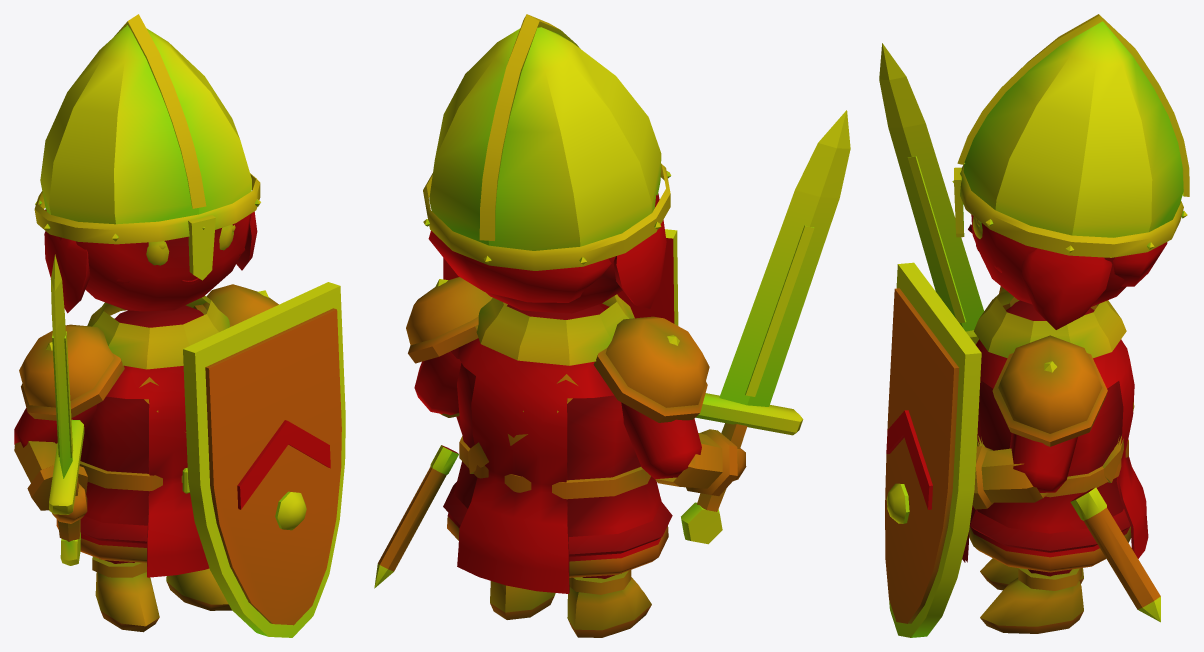
The model's file is Shieldman.glb.
3 renders of one model, left to right at view 1: azimuth 30°, elevation 25°; view 2: azimuth 150°, elevation 25°; view 3: azimuth 270°, elevation 25°, orthographic. The views are drawn at different scales.
Visible parts, largest first — view 1: Shieldman; view 2: Shieldman; view 3: Shieldman.
Part boxes in pixels (x1,y1,x2,y2): Shieldman: [14, 14, 345, 637]; Shieldman: [374, 14, 850, 637]; Shieldman: [879, 14, 1189, 637].
Size of the model in its own units: 0.5997 by 0.9892 by 0.4707.
